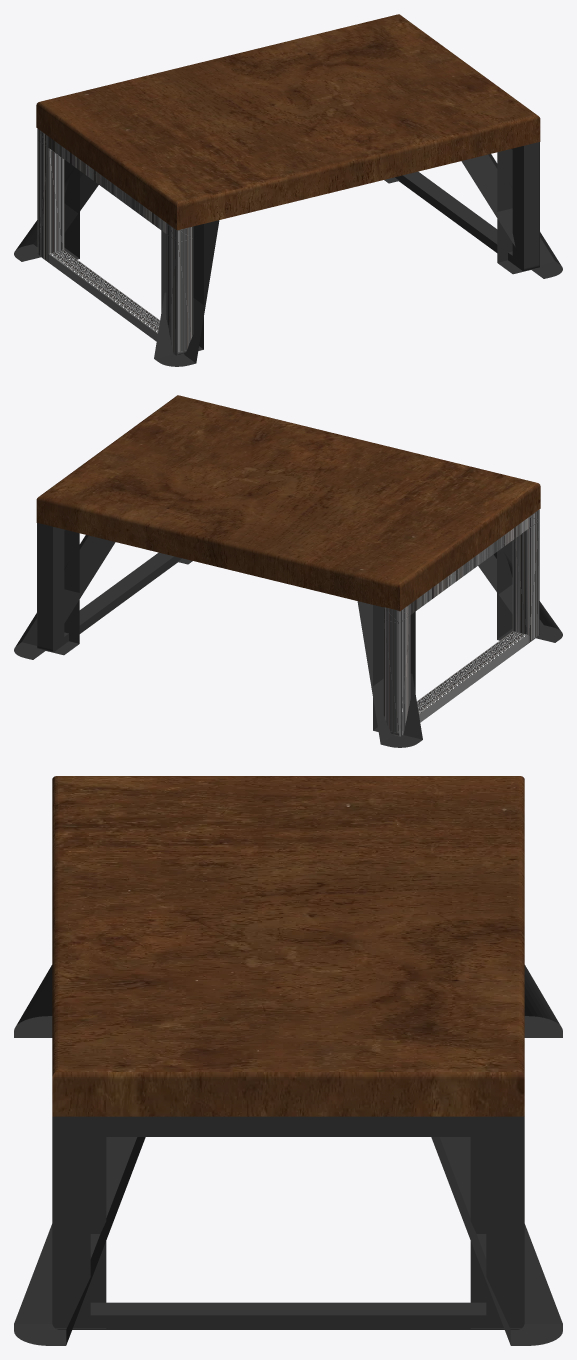
The picture shows the model from 3 angles, top to bottom: view 1: azimuth 30°, elevation 25°; view 2: azimuth 150°, elevation 25°; view 3: azimuth 270°, elevation 25°; orthographic projection. The views are drawn at different scales.
Parts seen in each view (by area): view 1: TableTop, Legs02Left, Legs02Right, Legs03Left, Legs01Left, Legs03Right, Legs01Right; view 2: TableTop, Legs02Left, Legs02Right, Legs03Left, Legs01Left, Legs03Right, Legs01Right; view 3: TableTop, Legs02Right, Legs03Right, Legs01Right, Legs03Left.
Boxes of the visible parts, x1,y1,x2,y2 form: TableTop: (36,14,540,230); Legs02Left: (37,129,193,355); Legs02Right: (395,142,539,271); Legs03Left: (14,167,219,366); Legs01Left: (37,128,203,356); Legs03Right: (461,154,562,278); Legs01Right: (384,142,539,274); TableTop: (36,395,540,611); Legs02Left: (383,510,539,736); Legs02Right: (37,523,181,652); Legs03Left: (357,548,562,747); Legs01Left: (373,509,539,737); Legs03Right: (14,535,115,659); Legs01Right: (37,523,192,655); TableTop: (52,776,524,1116); Legs02Right: (52,1116,524,1329); Legs03Right: (14,1137,562,1345); Legs01Right: (53,1137,523,1328); Legs03Left: (14,965,562,1037).
Bounding box in the file's own units: 3.3 × 1.21 × 2.32.
Materials: 7 (6 with a texture image).
